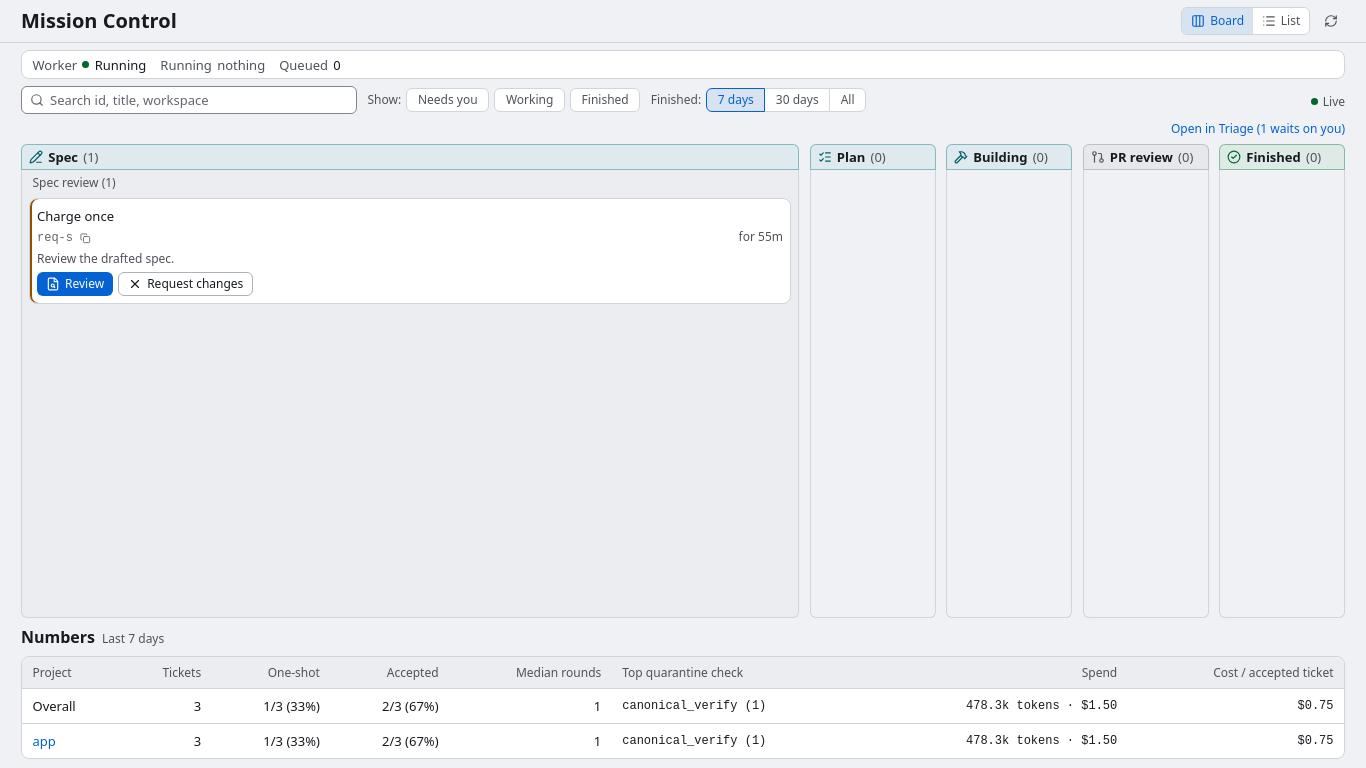
Test case: an open Request changes dialog and a list that keeps changing › nothing changes: the rejection is sent, and the dialog closes
The image size is (1366, 768).
Step 1. Click the button "Request changes" → x=186, y=284, box [118,272,253,296]
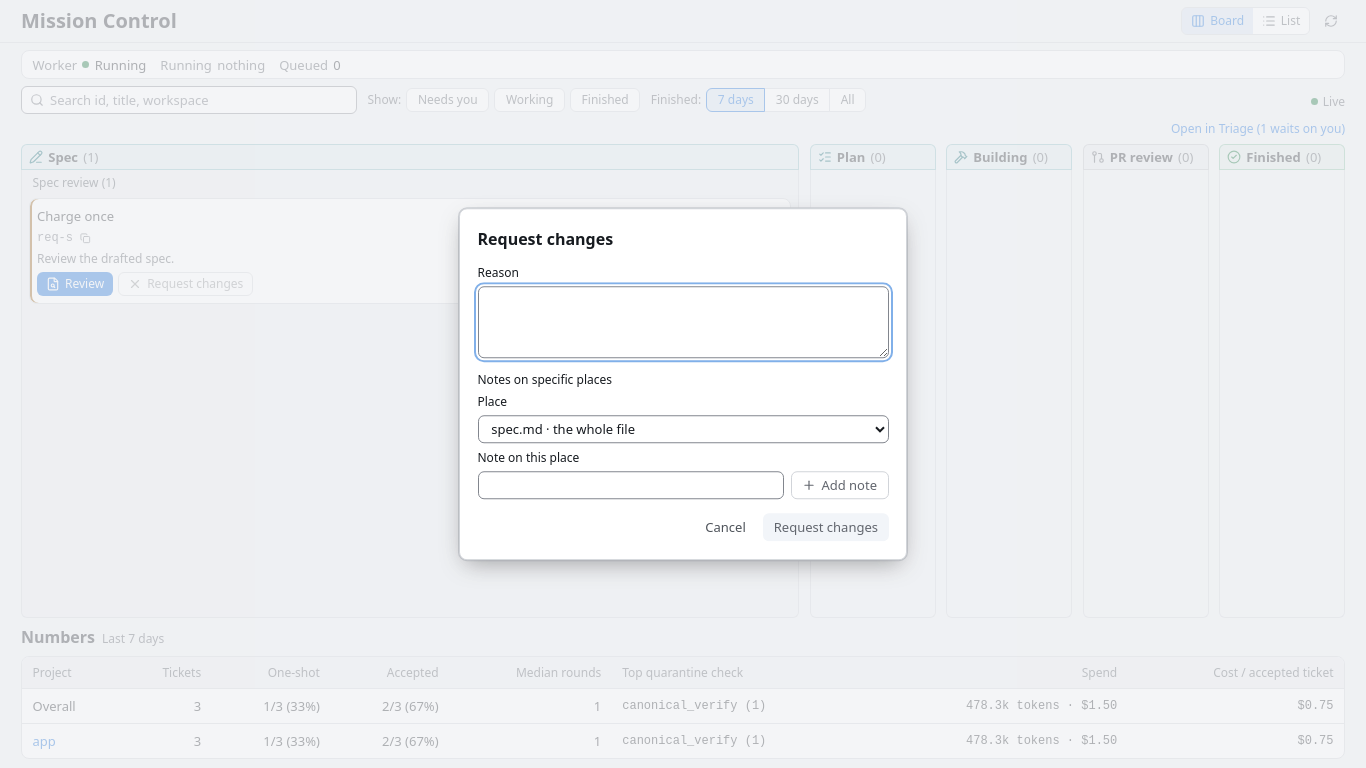
Step 2. Type "Name the account." into the text box labelled "Reason" → x=683, y=322, box [478,286,888,358]
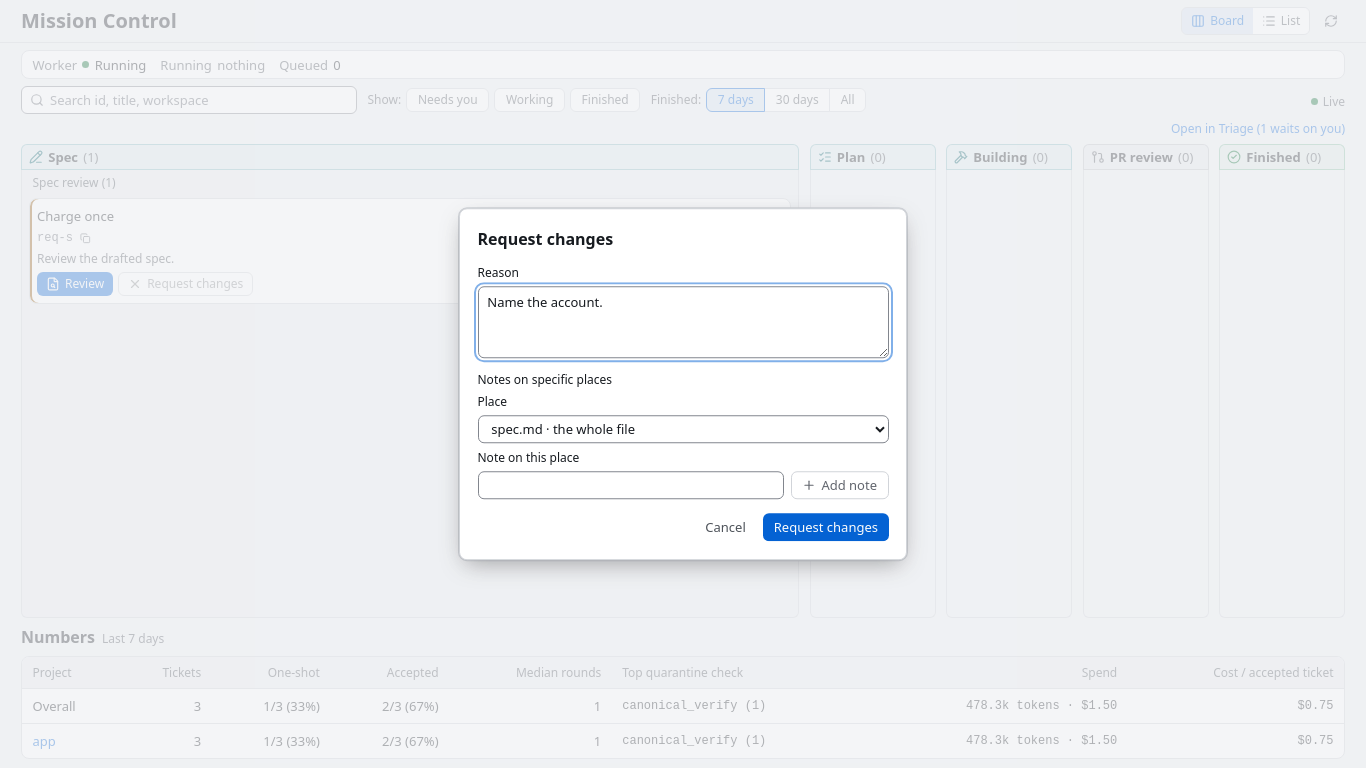
Expected: the button "Request changes" is enabled
Step 3. Click the button "Request changes" → x=826, y=527, box [763,513,888,541]
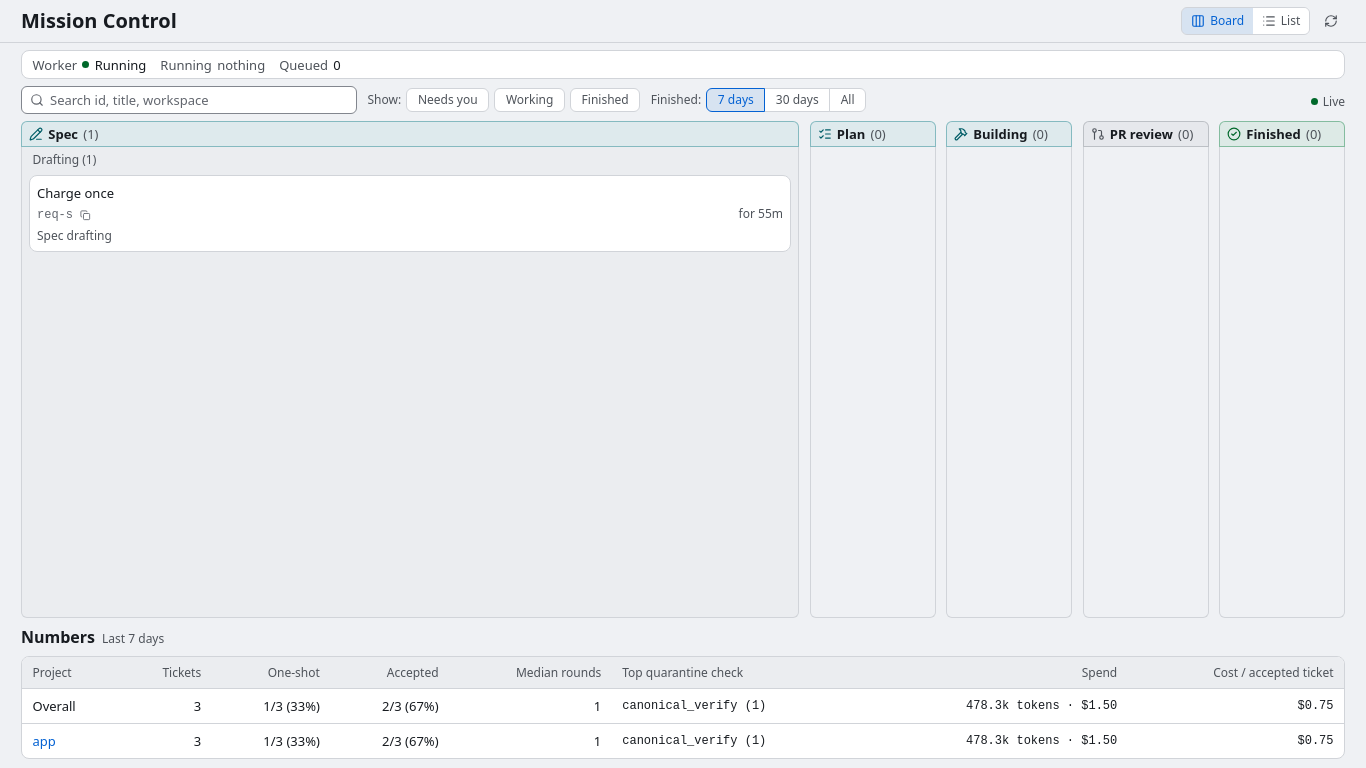
Expected: the dialog is gone
